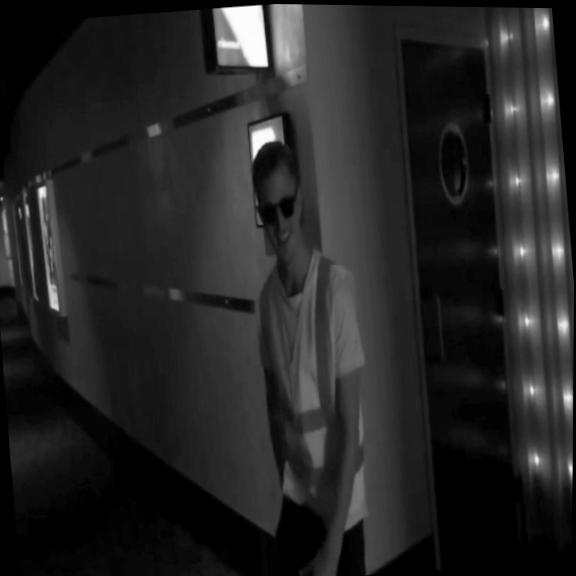safety_vest: (249, 242, 379, 522)
